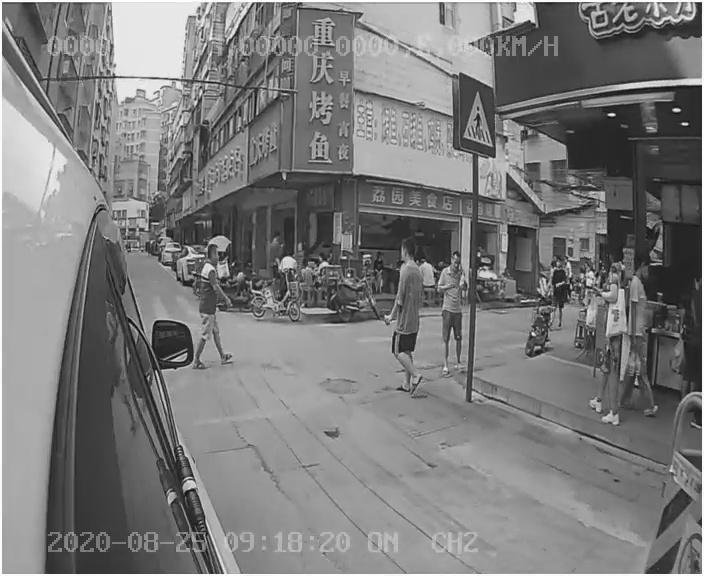person: (187, 243, 247, 376)
